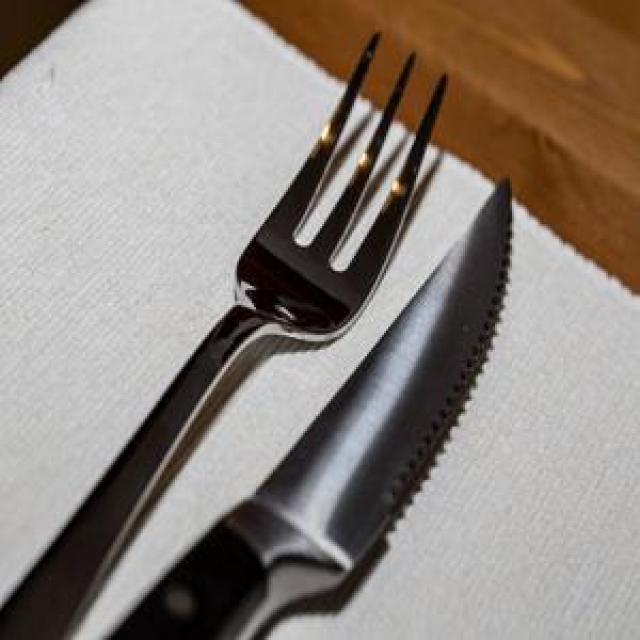knife: (102, 168, 516, 638)
